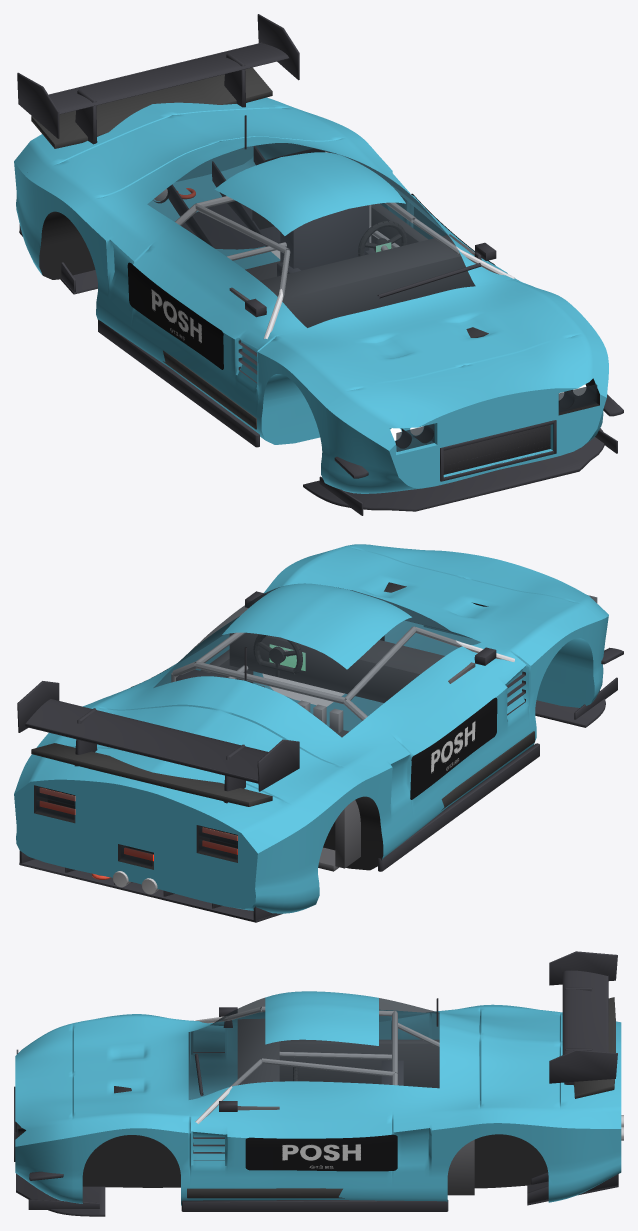
File: posh_gt3rs.glb
The picture shows the model from 3 angles, top to bottom: view 1: azimuth 30°, elevation 25°; view 2: azimuth 150°, elevation 25°; view 3: azimuth 270°, elevation 25°; orthographic projection. The views are drawn at different scales.
Parts seen in each view (by area): view 1: posh_gt3rs; view 2: posh_gt3rs; view 3: posh_gt3rs.
Boxes of the visible parts, x1,y1,x2,y2 form: posh_gt3rs: (14,14,623,515); posh_gt3rs: (14,544,623,922); posh_gt3rs: (14,951,623,1216).
Bounding box in the file's own units: 2.11 × 1.33 × 4.58.
19 materials, 1 textured.
